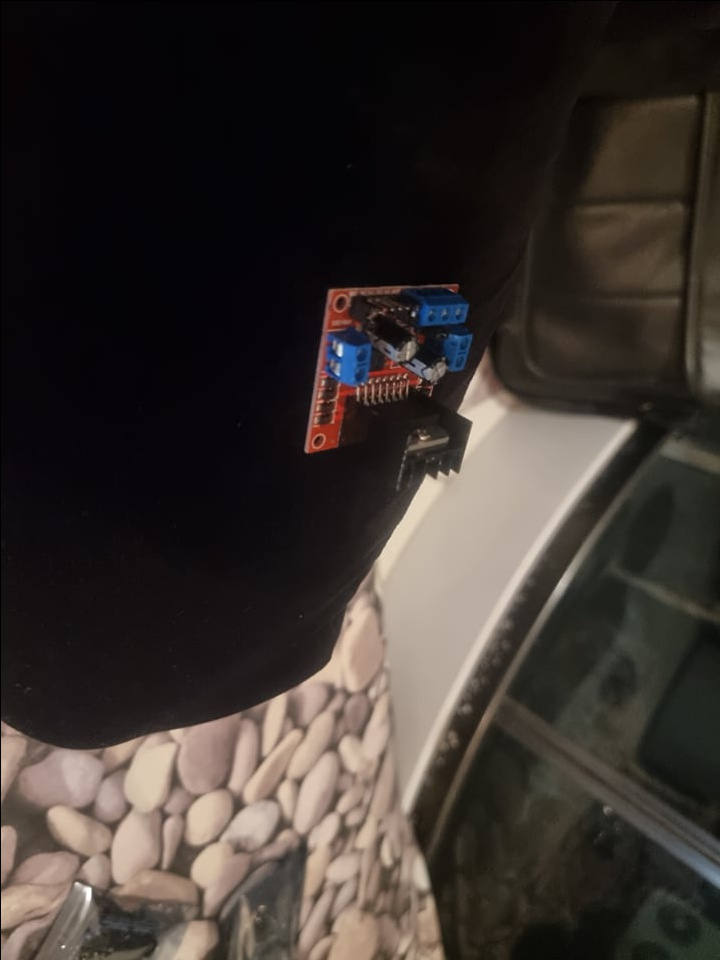MOTOR: (301, 281, 477, 490)
